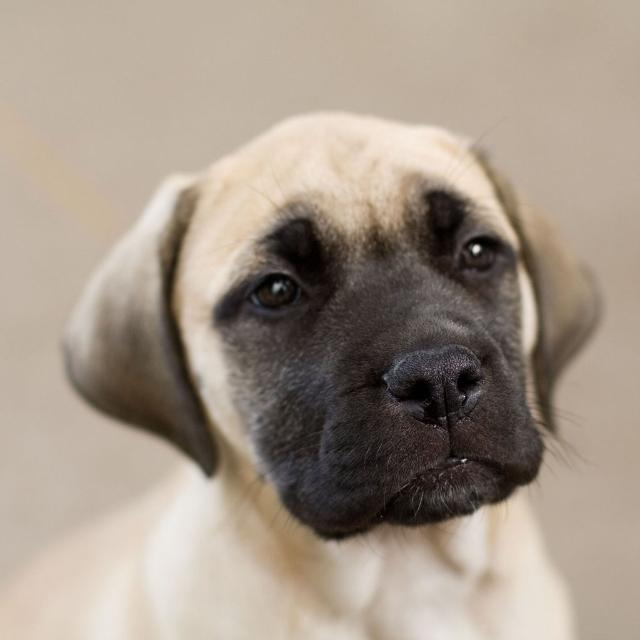mastiff: (2, 109, 604, 639)
